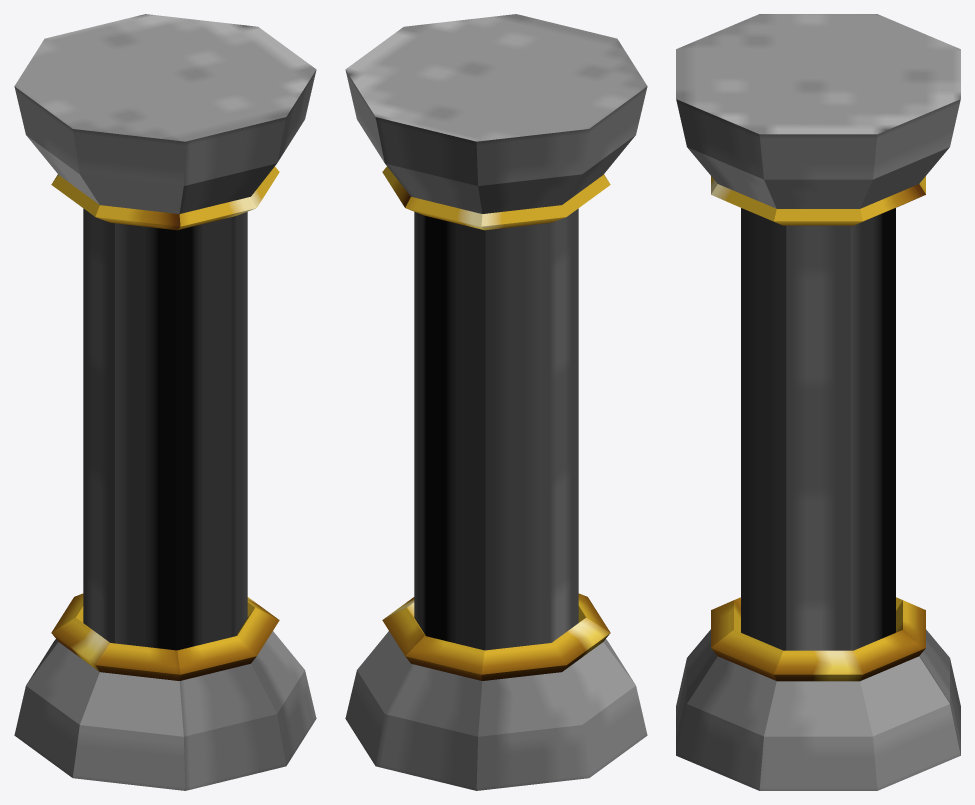
The model's file is column.glb.
3 views of the same model, side by side, from view 1: azimuth 30°, elevation 25°; view 2: azimuth 150°, elevation 25°; view 3: azimuth 270°, elevation 25° (orthographic).
Visible parts, largest first — view 1: Decorative_Column; view 2: Decorative_Column; view 3: Decorative_Column.
Boxes of the visible parts, bbox=[...] form: Decorative_Column: bbox=[14, 14, 316, 790]; Decorative_Column: bbox=[345, 14, 647, 790]; Decorative_Column: bbox=[676, 14, 960, 790].
Size of the model in its own units: 1.57 by 4 by 1.57.
1 material, 1 textured.
